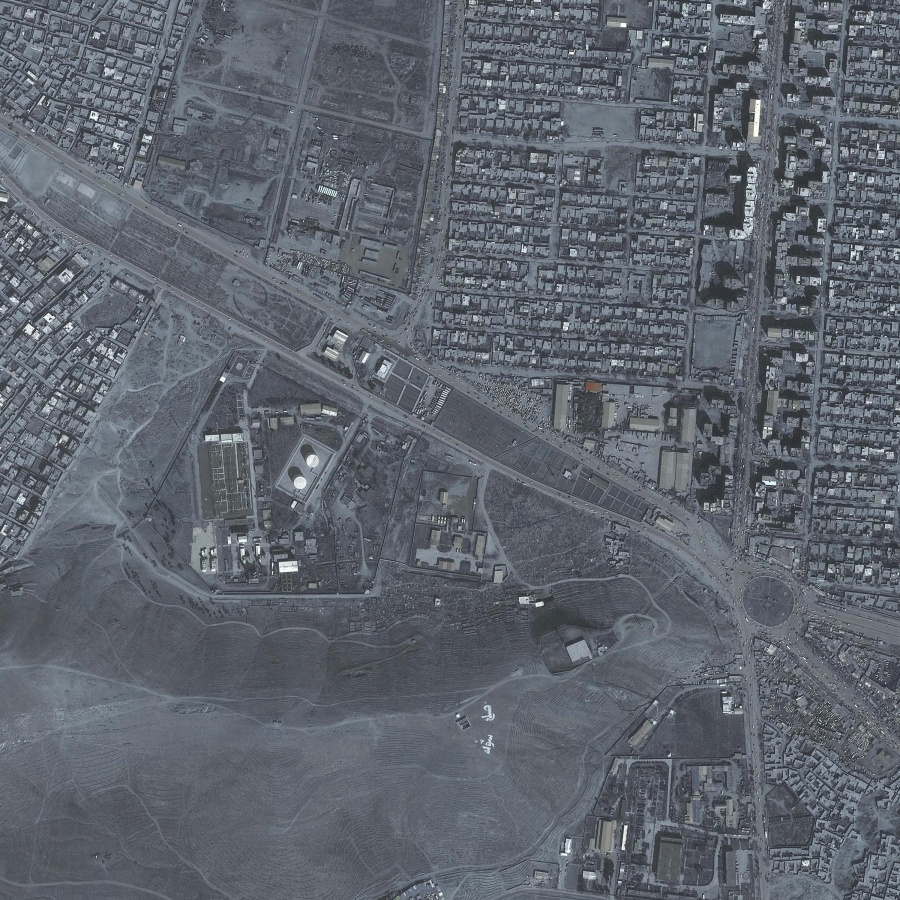PowerPlant: (200, 396, 343, 587)
